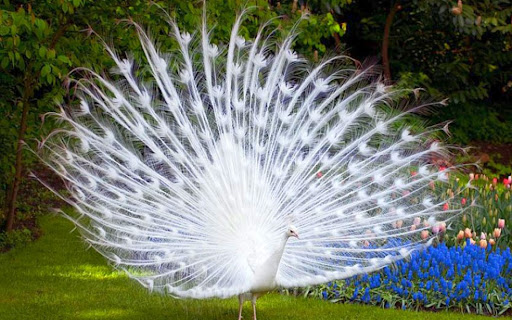bird: (19, 3, 477, 318)
